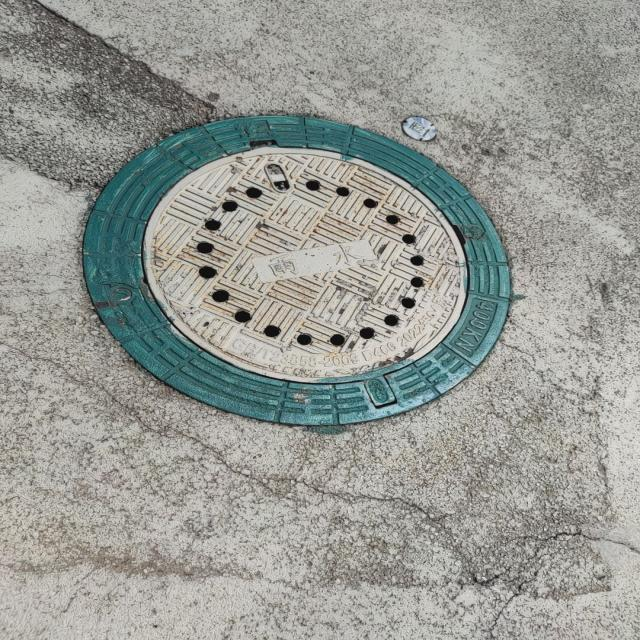Good: (82, 111, 516, 429)
